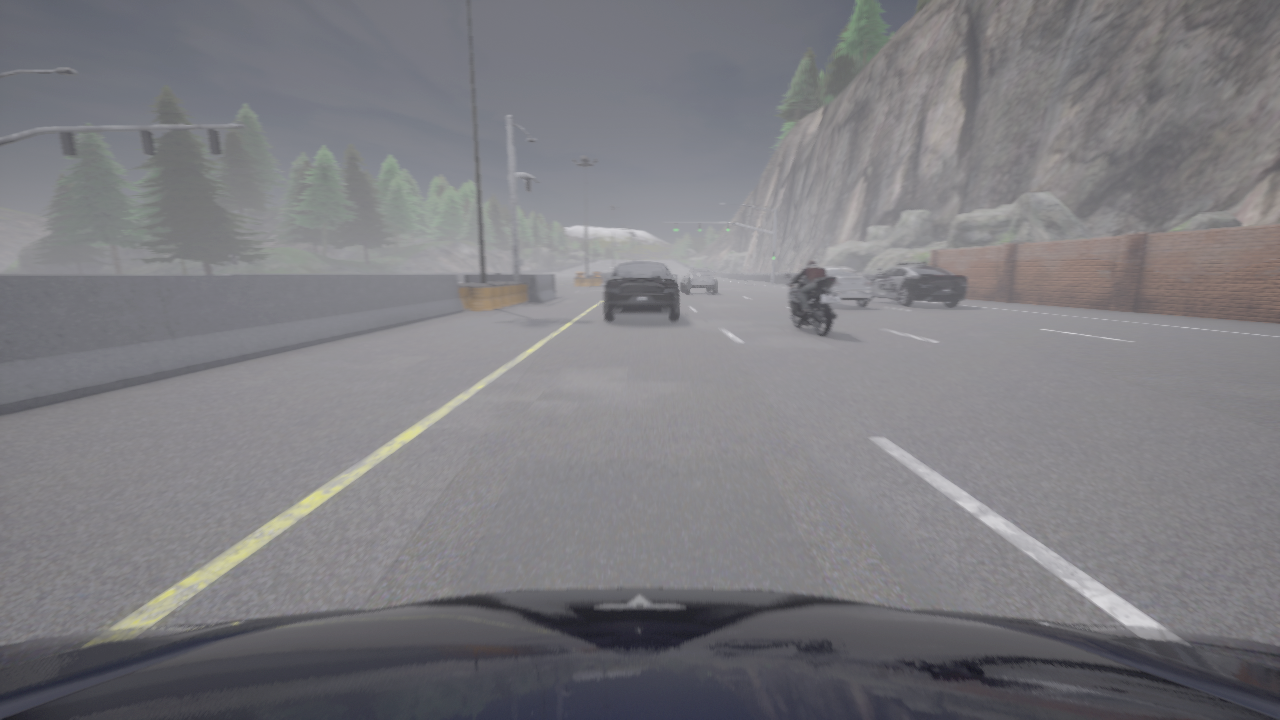cyclist: (0, 588, 1279, 719), (604, 261, 678, 320), (868, 262, 966, 306), (783, 273, 841, 336), (788, 267, 871, 307), (681, 268, 717, 293)
